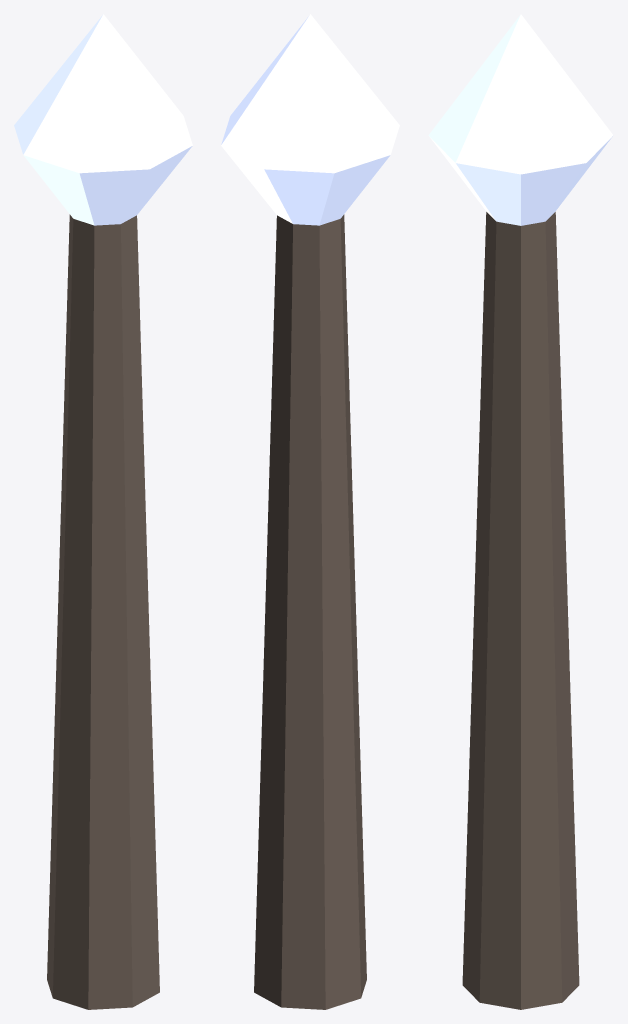
File: wand_rod.gltf
3 renders of one model, left to right at view 1: azimuth 30°, elevation 25°; view 2: azimuth 150°, elevation 25°; view 3: azimuth 270°, elevation 25°, orthographic.
Parts seen in each view (by area): view 1: WandRod; view 2: WandRod; view 3: WandRod.
Boxes of the visible parts, x1=… form: WandRod: x1=14, y1=14, x2=192, y2=1009; WandRod: x1=221, y1=14, x2=399, y2=1009; WandRod: x1=428, y1=14, x2=613, y2=1009.
Size of the model in its own units: 0.076 by 0.44 by 0.076.
